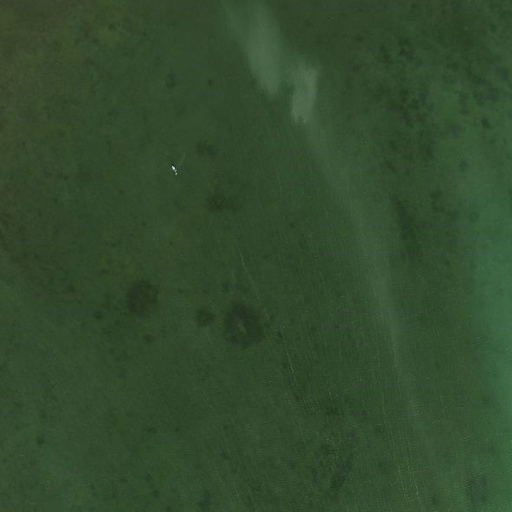ship: (171, 165, 178, 176)
